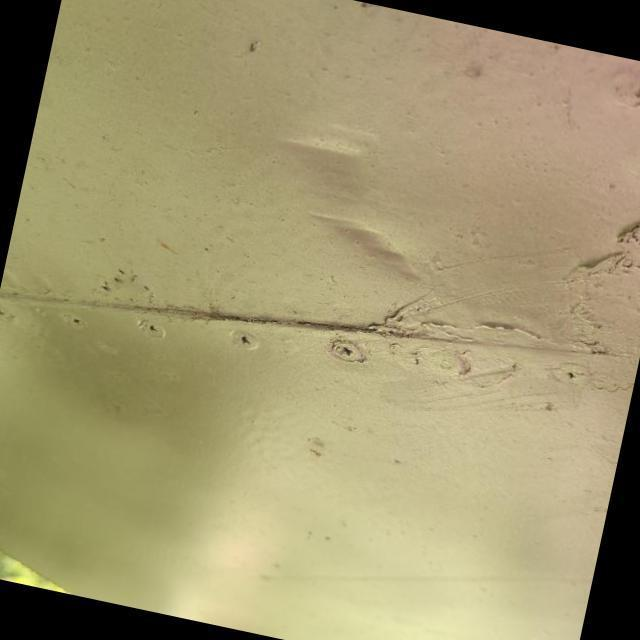Dent: (246, 94, 465, 306)
